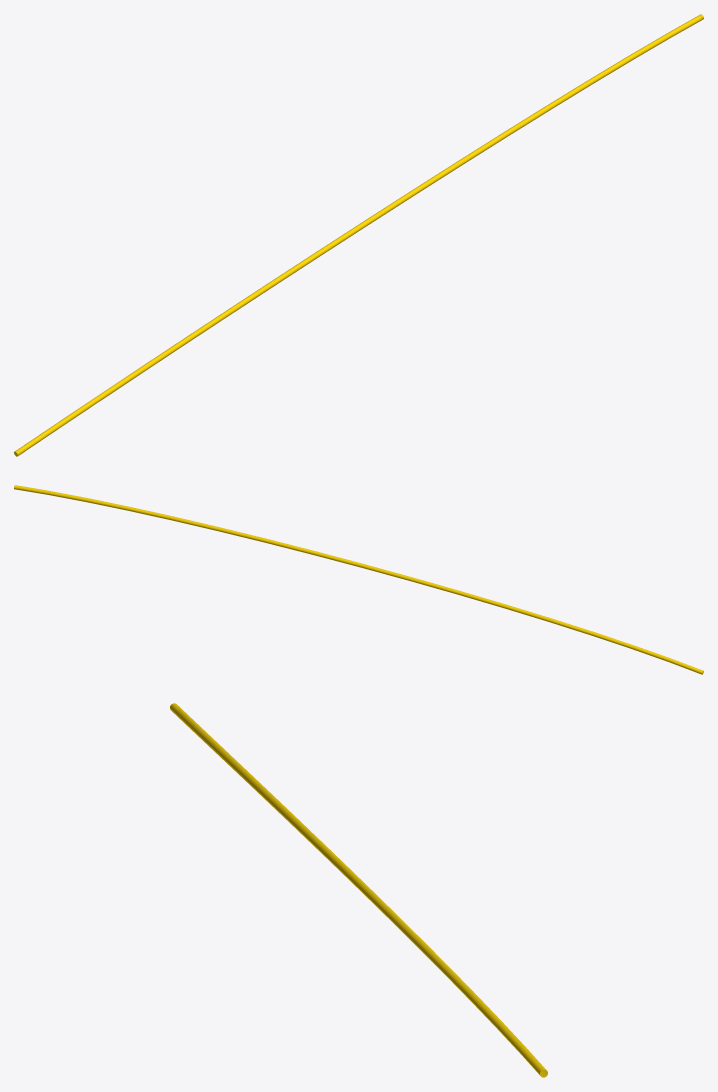
The model's file is Event_421364160_track_33.fbx.
3 renders of one model, top to bottom at view 1: azimuth 30°, elevation 25°; view 2: azimuth 150°, elevation 25°; view 3: azimuth 270°, elevation 25°, orthographic. The views are drawn at different scales.
Parts seen in each view (by area): view 1: Model; view 2: Model; view 3: Model.
Boxes of the visible parts, left/top/right/bottom form: Model: left=14, top=14, right=703, bottom=456; Model: left=14, top=485, right=703, bottom=674; Model: left=170, top=703, right=547, bottom=1077.
Size of the model in its own units: 6.44 by 1.15 by 1.77.
